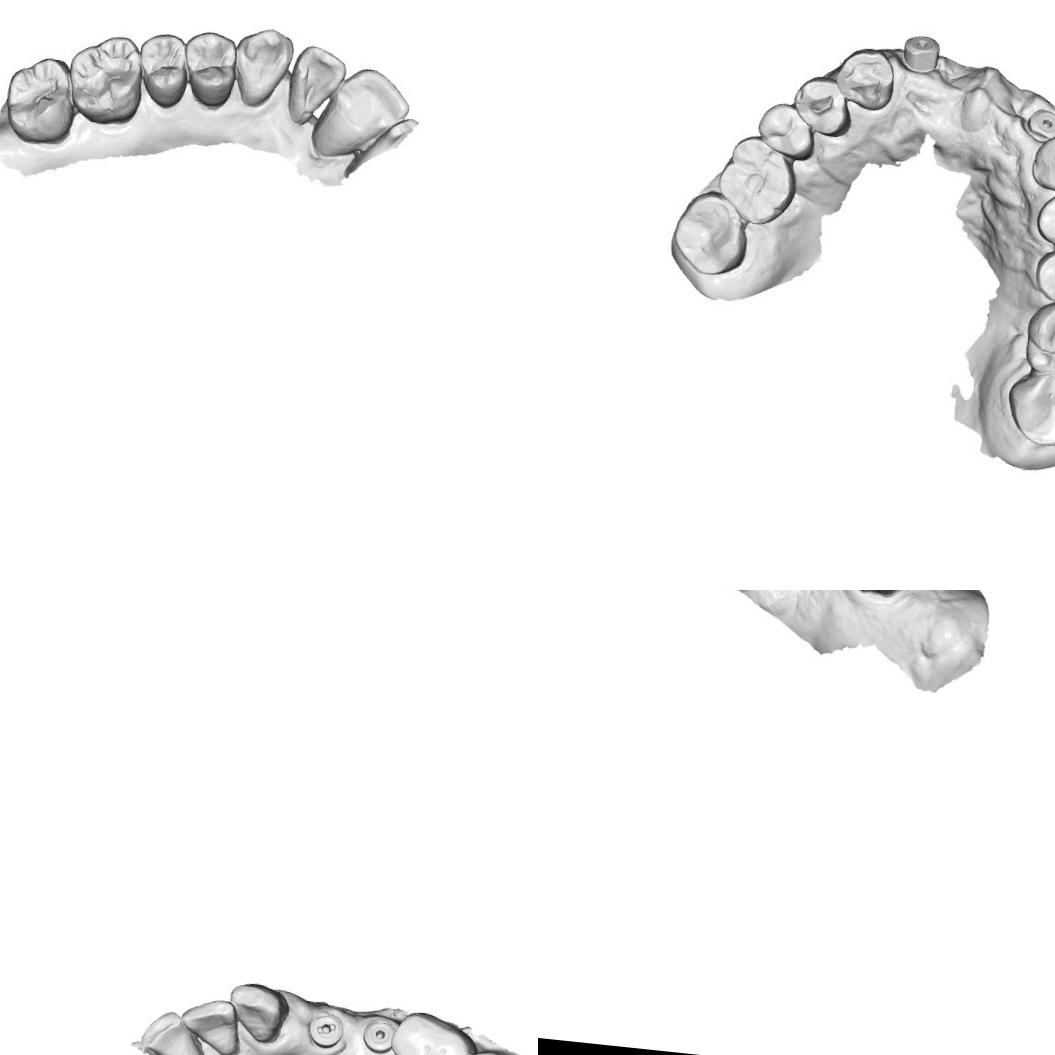canine: (233, 24, 296, 112), (224, 978, 289, 1046), (834, 47, 897, 115), (1025, 125, 1055, 196)
implant: (898, 27, 941, 71), (357, 1013, 401, 1055), (1019, 101, 1055, 144)
implant_minus: (304, 1007, 347, 1050)
incisor: (308, 60, 416, 170), (280, 40, 350, 132), (176, 992, 243, 1055), (137, 1007, 210, 1055)
molar: (65, 32, 147, 128), (1, 51, 80, 146), (718, 136, 800, 224), (671, 194, 748, 272), (389, 1008, 476, 1055), (1005, 370, 1055, 450), (1026, 299, 1055, 377)
premolar: (133, 28, 198, 110), (179, 29, 239, 114), (794, 74, 849, 134), (758, 101, 814, 158), (1035, 244, 1055, 306), (1035, 188, 1055, 248)
